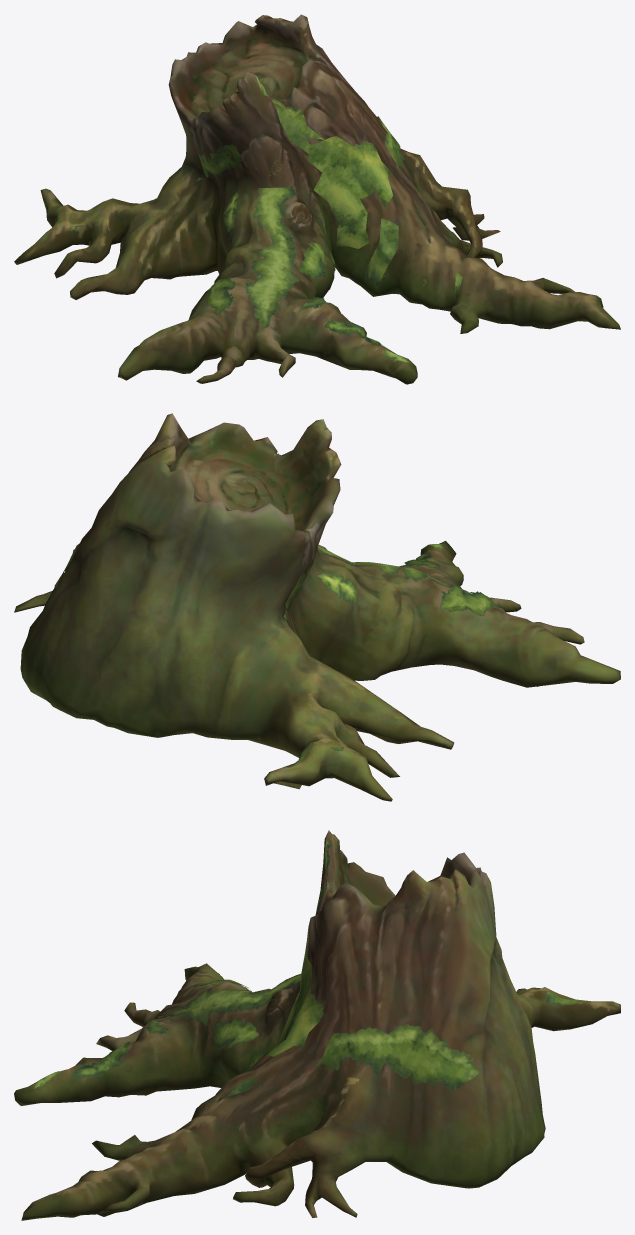
File: bg_jungle_foliage_stump_003.fbx
3 renders of one model, top to bottom at view 1: azimuth 30°, elevation 25°; view 2: azimuth 150°, elevation 25°; view 3: azimuth 270°, elevation 25°, orthographic. The views are drawn at different scales.
Parts seen in each view (by area): view 1: bg_jungle_foliage_stump_003, bg_jungle_foliage_stump_003_plant01; view 2: bg_jungle_foliage_stump_003, bg_jungle_foliage_stump_003_plant01; view 3: bg_jungle_foliage_stump_003, bg_jungle_foliage_stump_003_plant01.
Boxes of the visible parts, <box> form: bg_jungle_foliage_stump_003: <box>14,14,620,384</box>; bg_jungle_foliage_stump_003_plant01: <box>49,76,522,362</box>; bg_jungle_foliage_stump_003: <box>14,413,620,801</box>; bg_jungle_foliage_stump_003_plant01: <box>54,453,498,767</box>; bg_jungle_foliage_stump_003: <box>14,830,620,1220</box>; bg_jungle_foliage_stump_003_plant01: <box>34,838,587,1105</box>.
Bounding box in the file's own units: 4.76 × 2.53 × 4.94.
